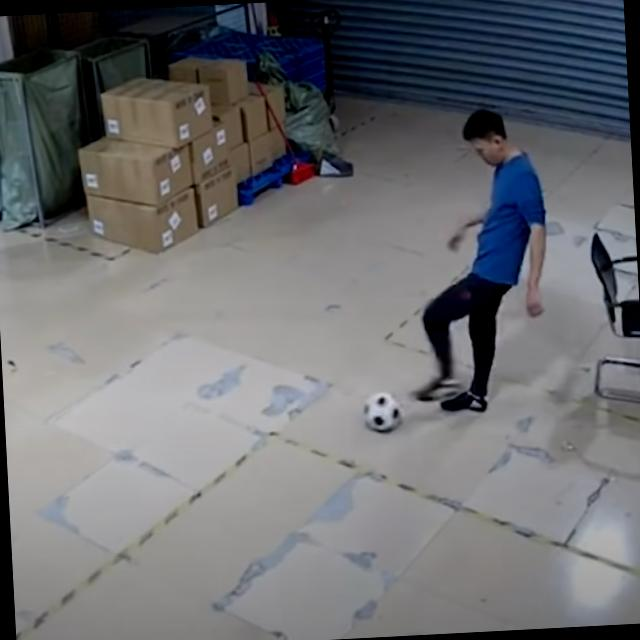person: (398, 103, 557, 414)
